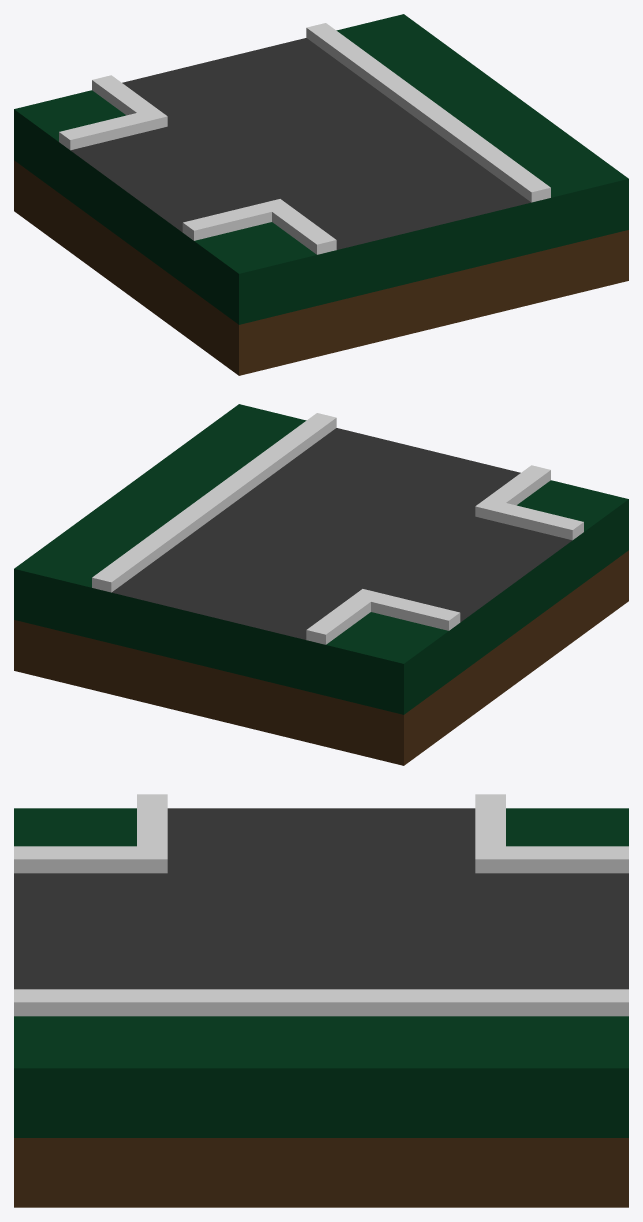
Rendered from Block_5.fbx.
3 views of the same model, one above another, from view 1: azimuth 30°, elevation 25°; view 2: azimuth 150°, elevation 25°; view 3: azimuth 270°, elevation 25° (orthographic). The views are drawn at different scales.
Visible parts, largest first — view 1: Block_5; view 2: Block_5; view 3: Block_5.
Boxes of the visible parts, left/top/right/bottom form: Block_5: left=14, top=14, right=628, bottom=375; Block_5: left=14, top=404, right=628, bottom=765; Block_5: left=14, top=794, right=628, bottom=1207.
Size of the model in its own units: 400 by 110 by 400.
